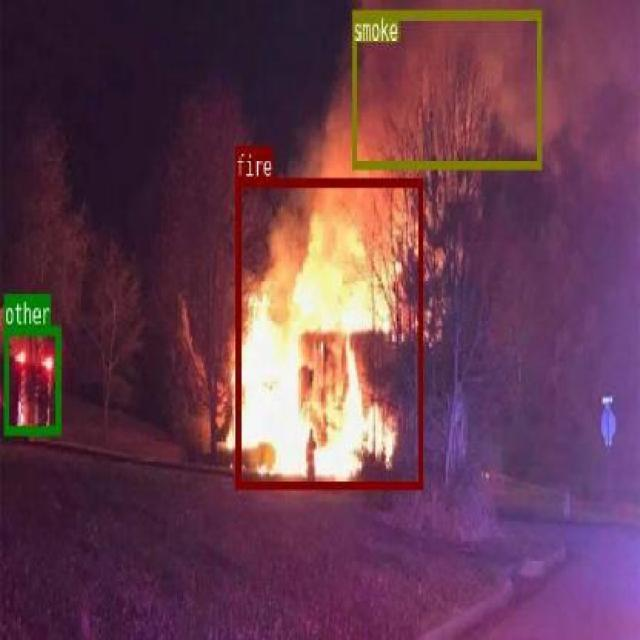Fire: (235, 176, 422, 487)
Smoke: (352, 9, 540, 168)
